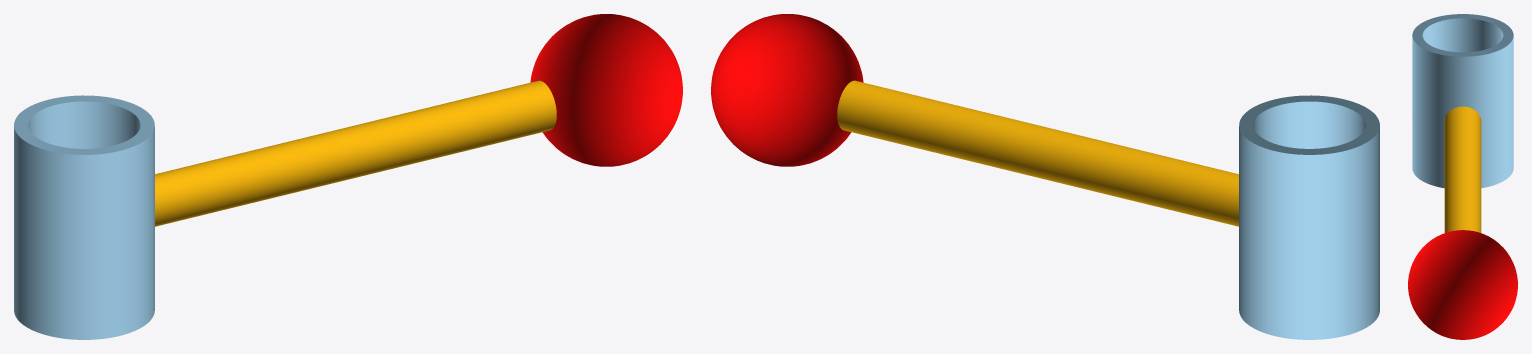
The model's file is RPR_link3.obj.
The picture shows the model from 3 angles, left to right: view 1: azimuth 30°, elevation 25°; view 2: azimuth 150°, elevation 25°; view 3: azimuth 270°, elevation 25°; orthographic projection. The views are drawn at different scales.
Parts seen in each view (by area): view 1: mesh6, mesh2, mesh0, mesh4, mesh5; view 2: mesh6, mesh2, mesh0, mesh4, mesh5; view 3: mesh6, mesh0, mesh2, mesh4, mesh5.
Boxes of the visible parts, x1,y1,x2,y2 form: mesh6: [14, 126, 154, 339]; mesh2: [155, 80, 556, 226]; mesh0: [530, 14, 682, 166]; mesh4: [28, 101, 140, 148]; mesh5: [14, 95, 154, 154]; mesh6: [1239, 126, 1379, 339]; mesh2: [837, 80, 1238, 226]; mesh0: [711, 14, 863, 166]; mesh4: [1253, 101, 1365, 148]; mesh5: [1239, 95, 1379, 154]; mesh6: [1412, 37, 1513, 188]; mesh0: [1408, 230, 1517, 339]; mesh2: [1444, 106, 1481, 232]; mesh4: [1422, 18, 1503, 52]; mesh5: [1412, 14, 1513, 56].
Bounding box in the file's own units: 0.1866 × 0.0508 × 0.038.
